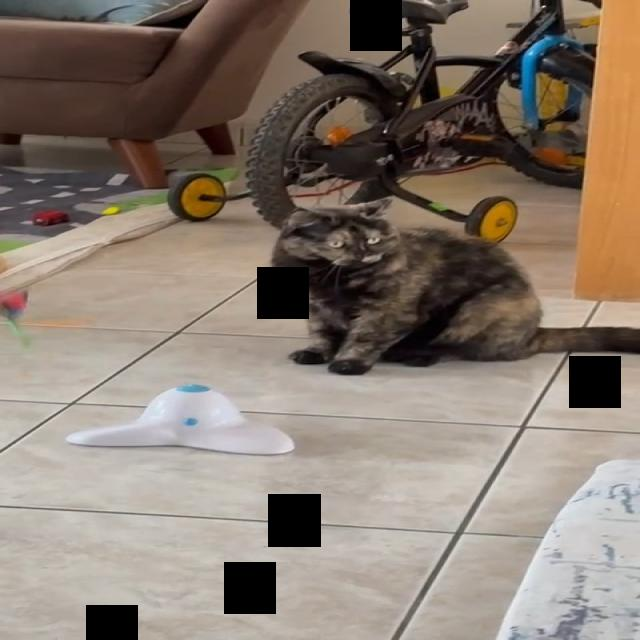authorized: (269, 197, 639, 375)
